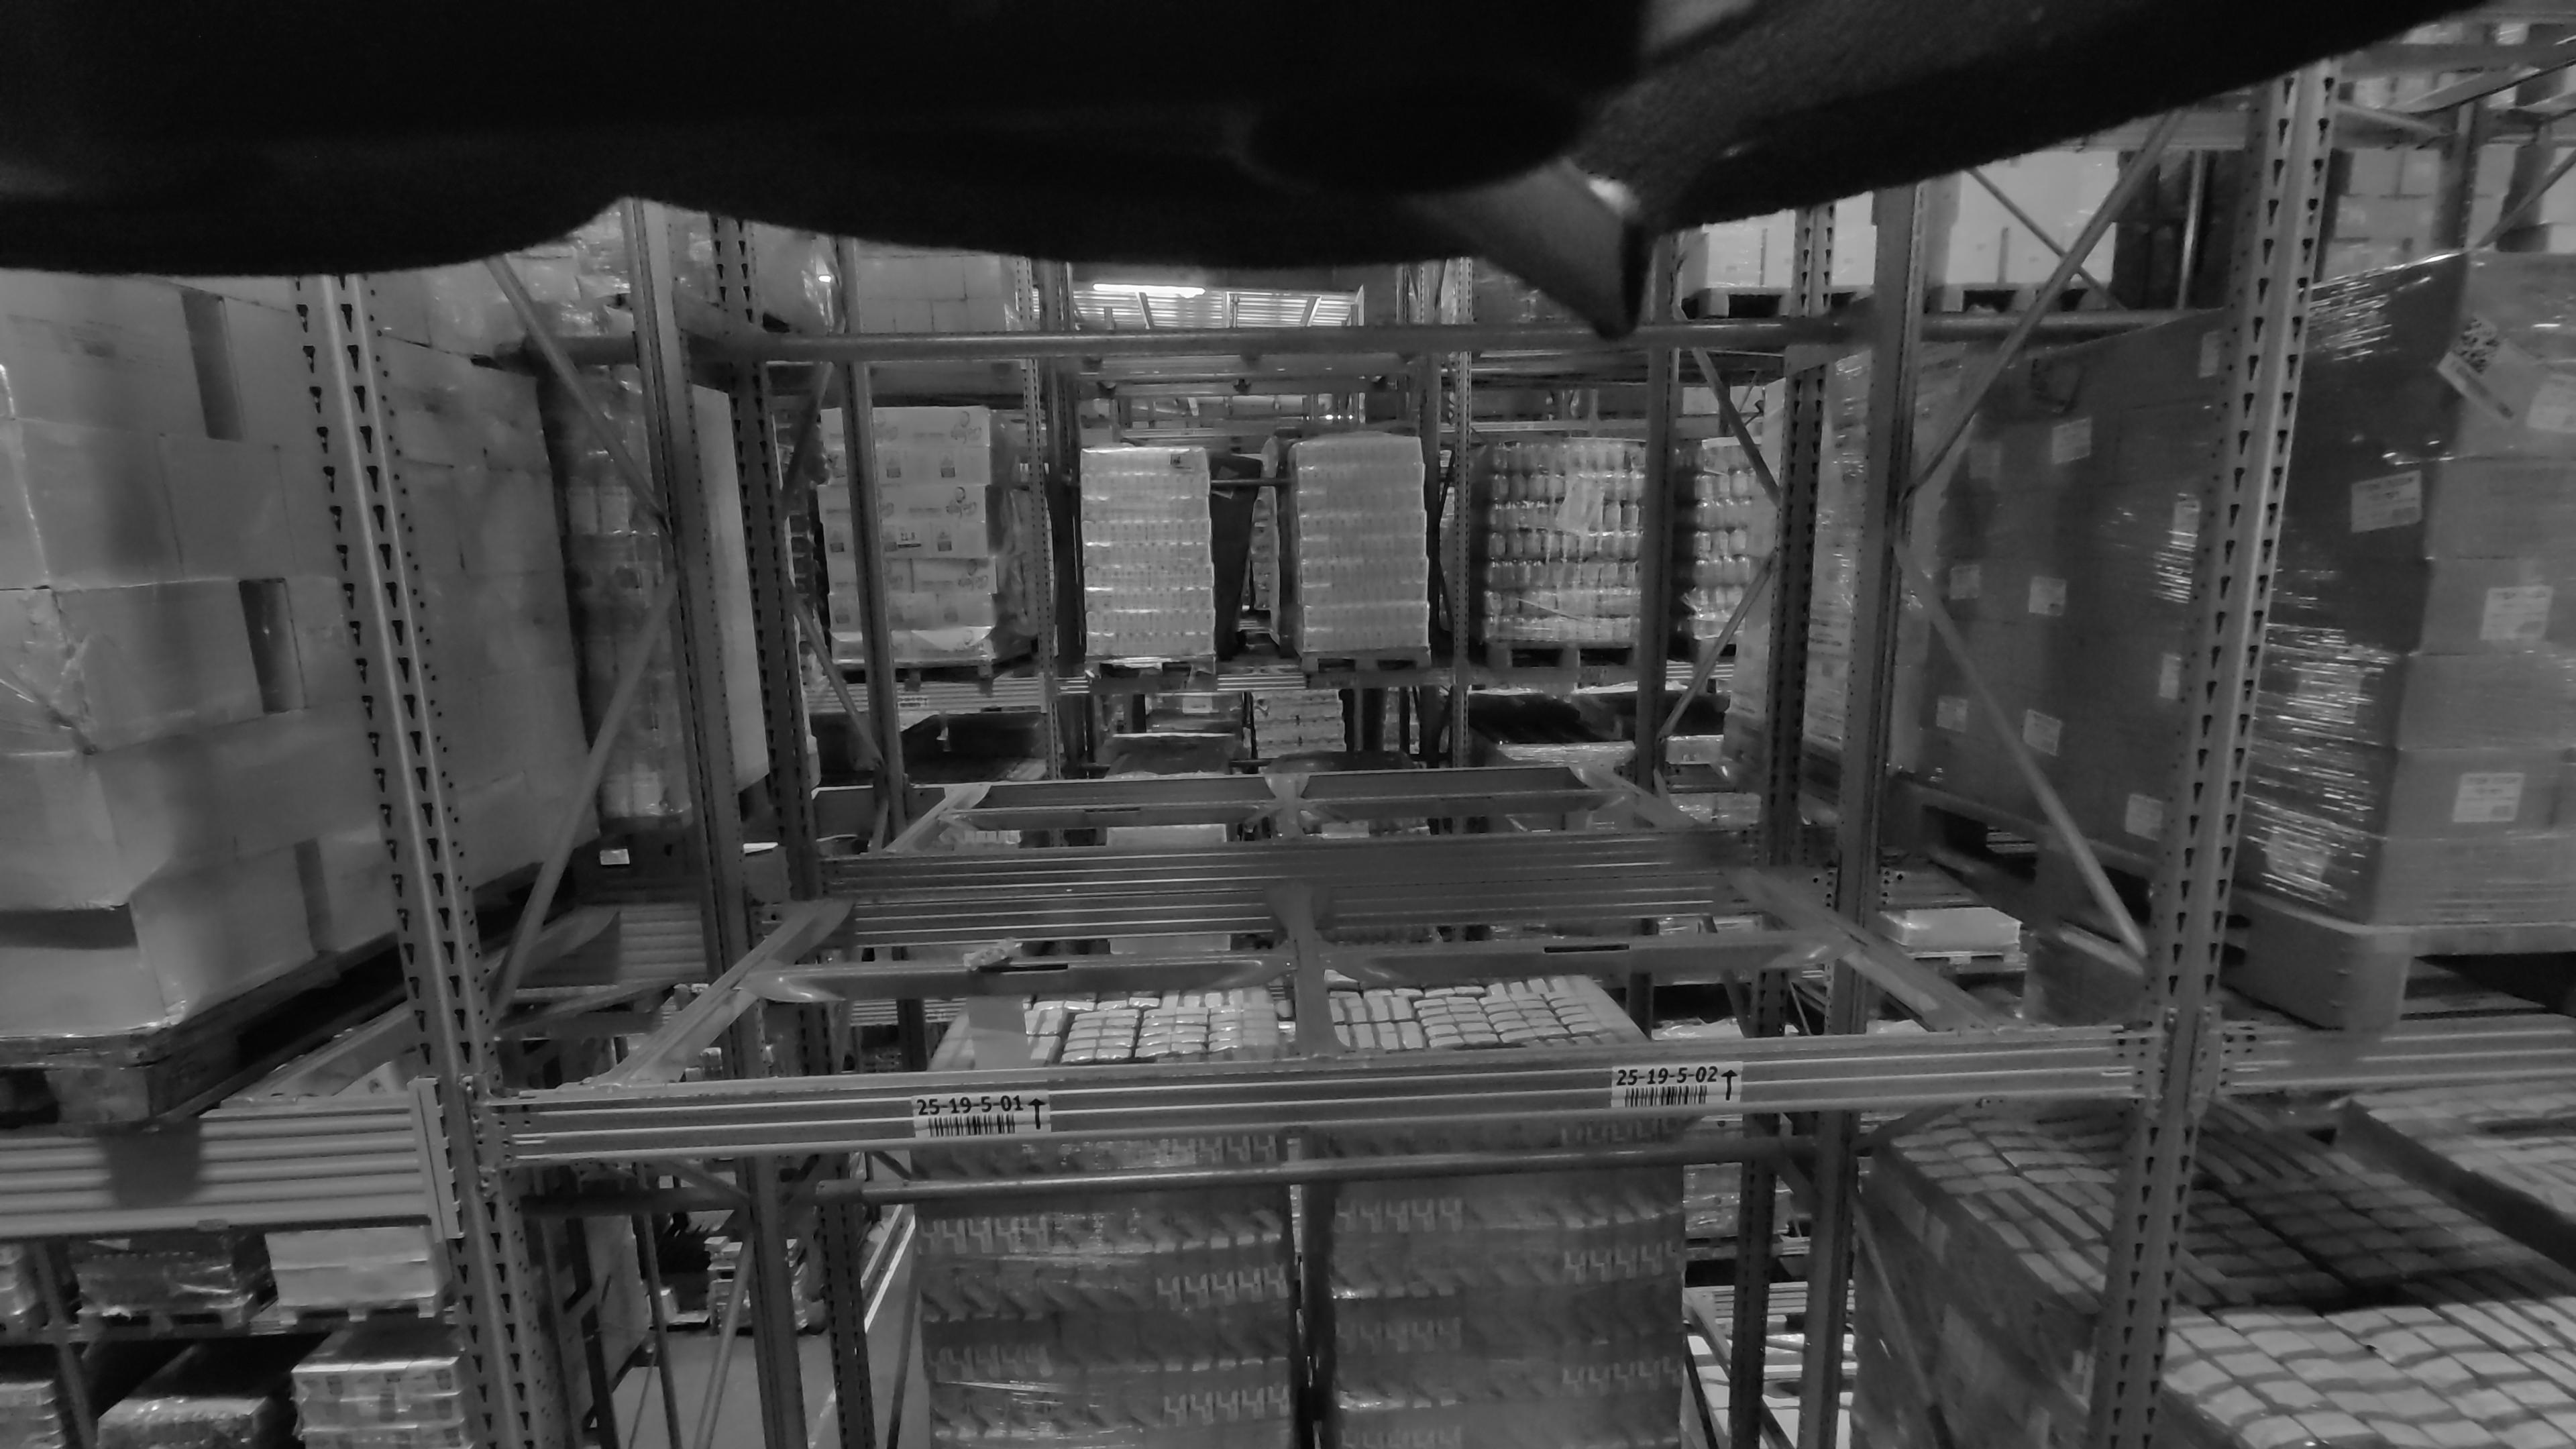empty-shelf: (1325, 257, 1992, 1035), (695, 214, 1306, 1051), (906, 253, 1279, 842), (1313, 269, 1690, 846)
